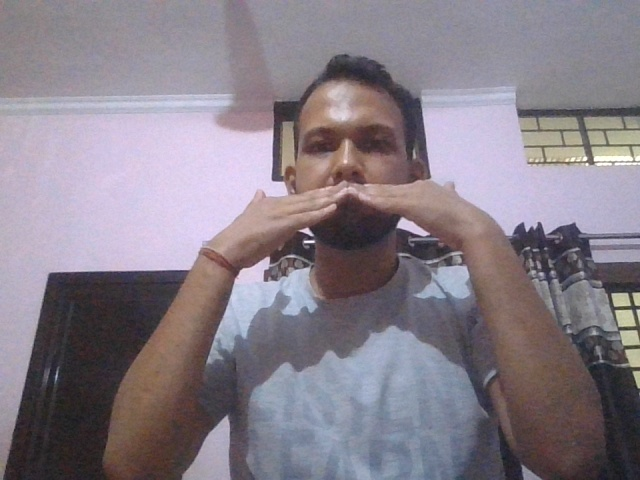thanks: (187, 179, 510, 269)
